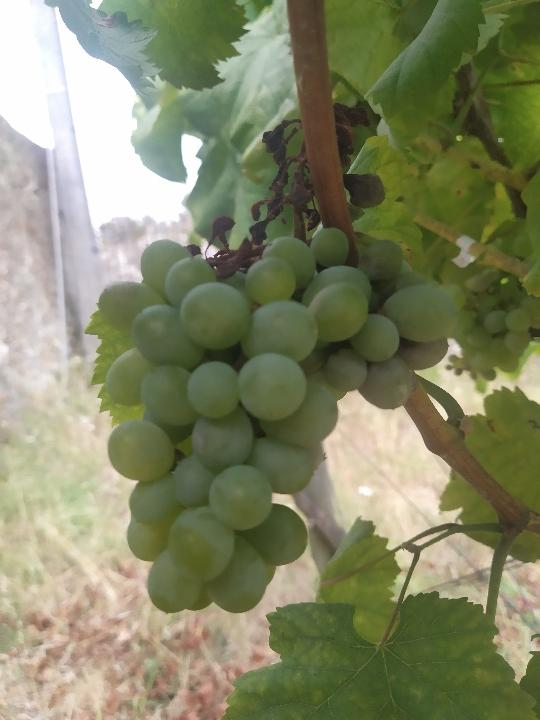grape: (94, 98, 462, 615)
